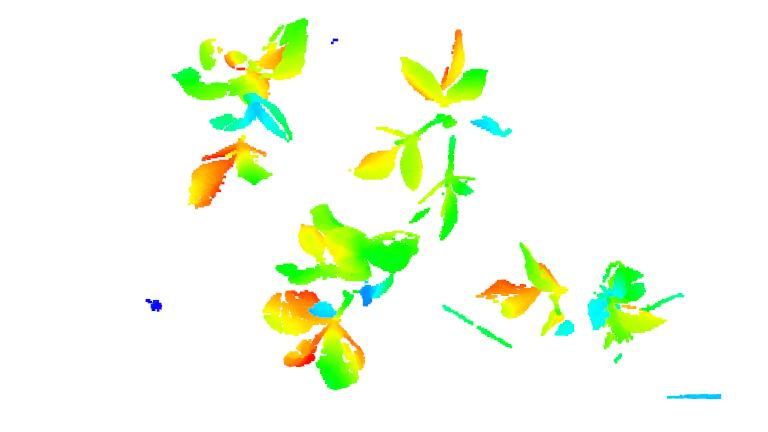mungbean: (349, 27, 515, 240), (169, 13, 316, 212), (264, 203, 418, 385), (487, 235, 669, 347)
